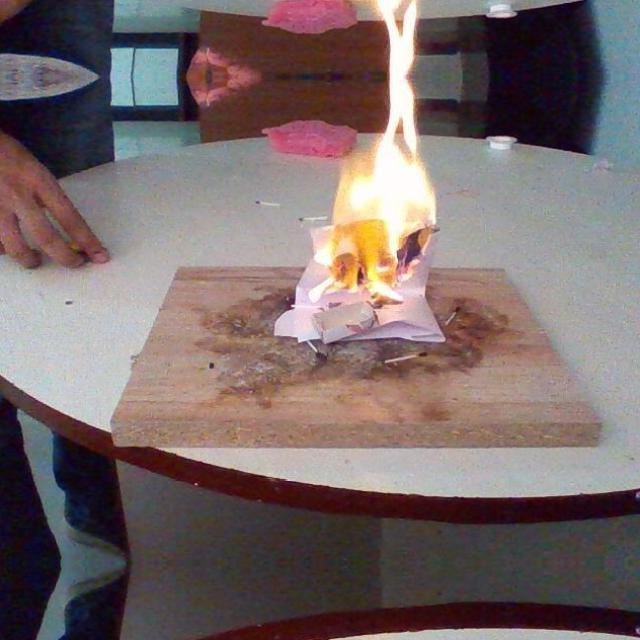smoke: (304, 79, 441, 302), (304, 0, 442, 75)
